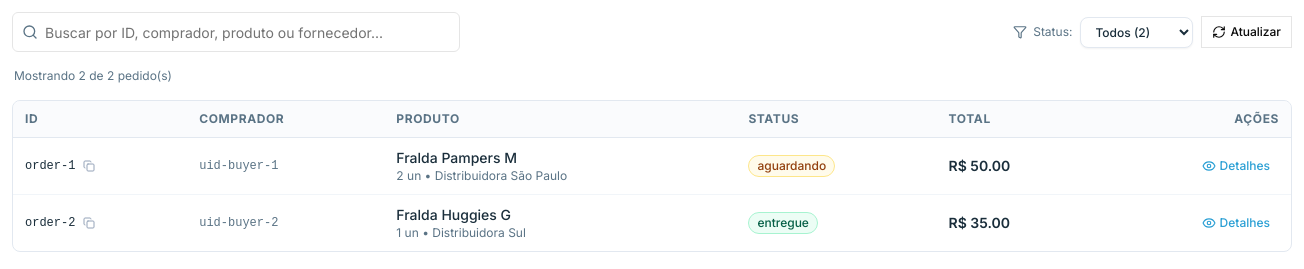
Test: AdminOrdersTab › filtra pedidos por status
Expected: the text "order-1" is shown, x1=25 y1=158 x2=75 y2=174
Step 1. Select "Entregue" in the dropdown named "filtrar por status" → (1137, 32), box x1=1080 y1=16 x2=1193 y2=48
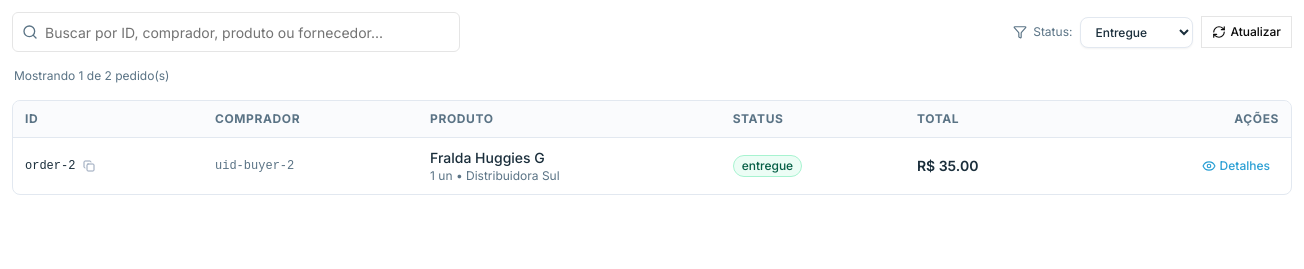
Expected: the text "order-2" is shown, x1=25 y1=158 x2=75 y2=174
Expected: the text "order-1" is gone
